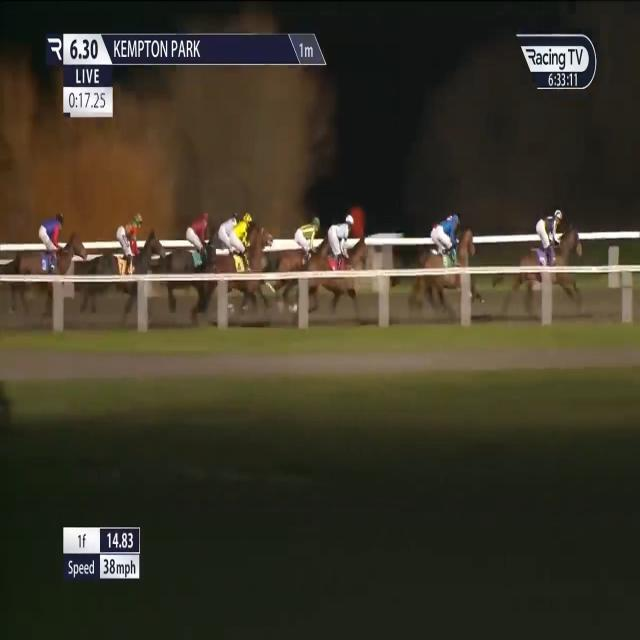horses-racing: (81, 209, 167, 306), (301, 209, 372, 323), (18, 204, 88, 306), (404, 212, 471, 318), (271, 208, 333, 308), (520, 200, 580, 301), (220, 210, 274, 301), (164, 214, 211, 312), (200, 206, 238, 282)
